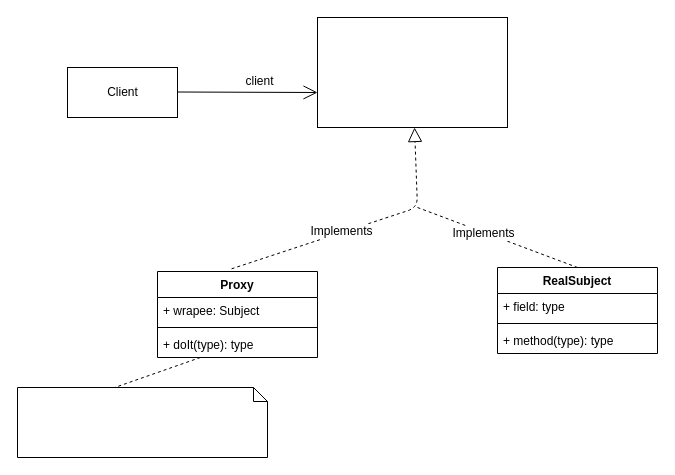
The diagram is 675 pixels wide and 475 high, and some of its shapes have lost their labels. The centre of each missing label's shape, as x and y in pixels:
//optional operation wrapee.doIt() //optional operation: [142,422]
<<Interface>> Subject + doIt(Type): Type: [412,72]
